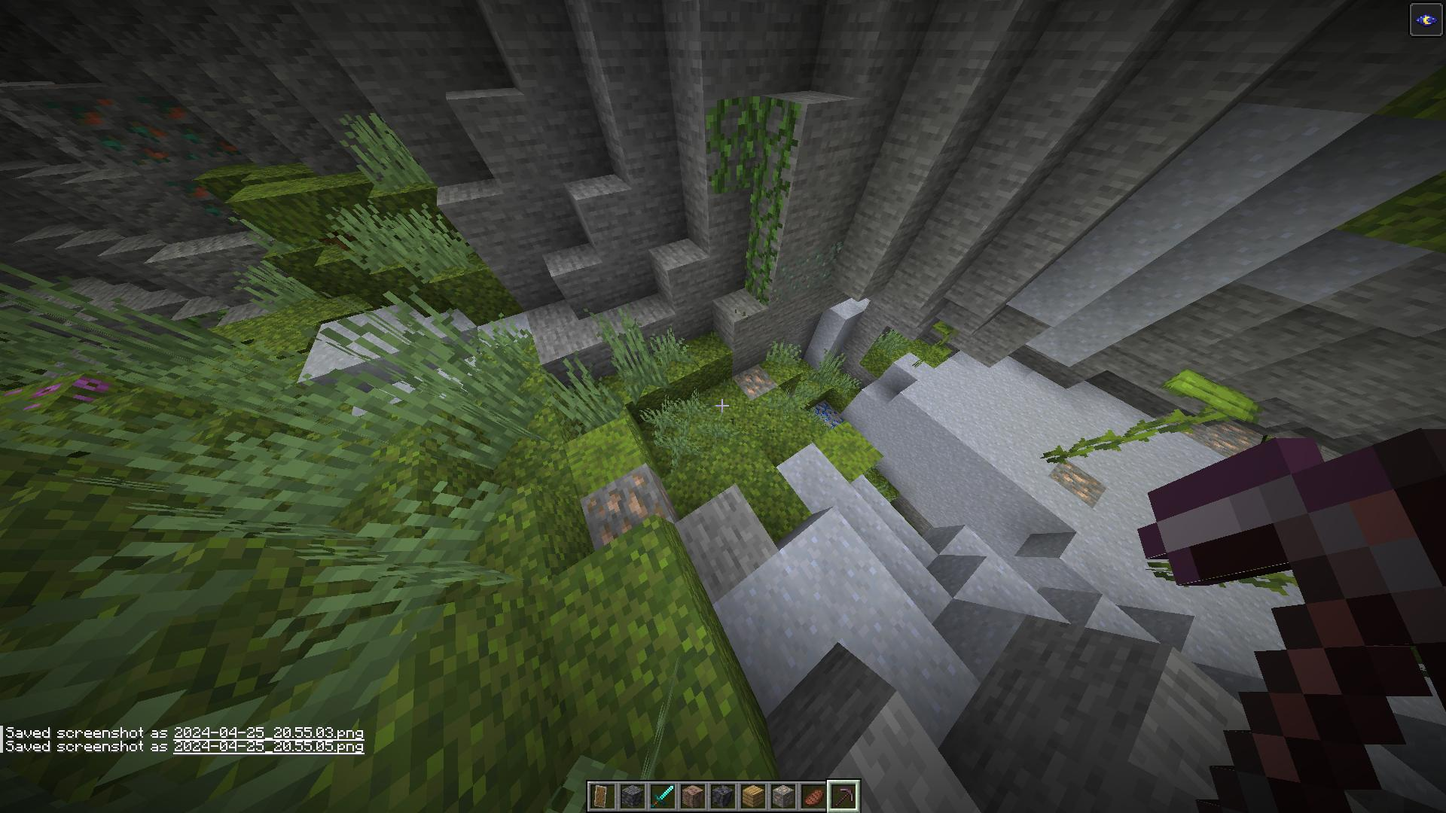iron ore: (579, 467, 667, 541), (1197, 416, 1257, 465), (1054, 458, 1100, 507), (734, 361, 776, 399)
